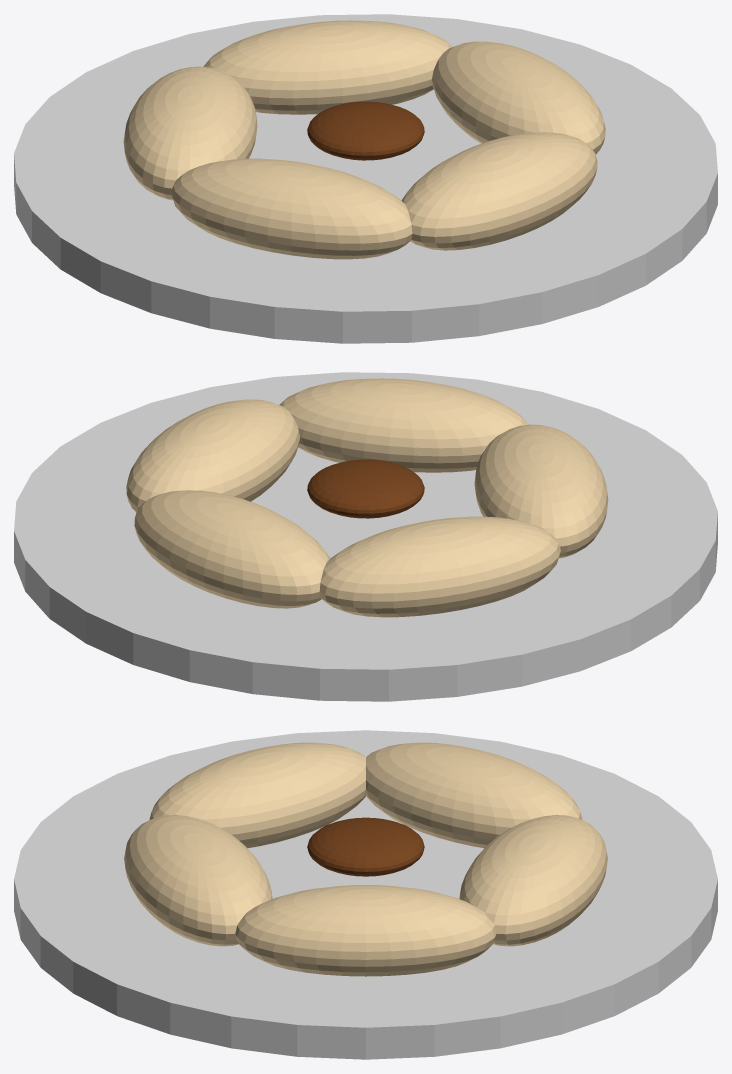
File: talerz_pierogi.obj
3 views of the same model, one above another, from view 1: azimuth 30°, elevation 25°; view 2: azimuth 150°, elevation 25°; view 3: azimuth 270°, elevation 25° (orthographic).
Visible parts, largest first — view 1: TalerzPierogow; view 2: TalerzPierogow; view 3: TalerzPierogow.
Boxes of the visible parts, bbox=[...] form: TalerzPierogow: bbox=[14, 14, 717, 343]; TalerzPierogow: bbox=[14, 372, 717, 701]; TalerzPierogow: bbox=[14, 730, 717, 1059].
Size of the model in its own units: 3 by 0.43 by 3.
